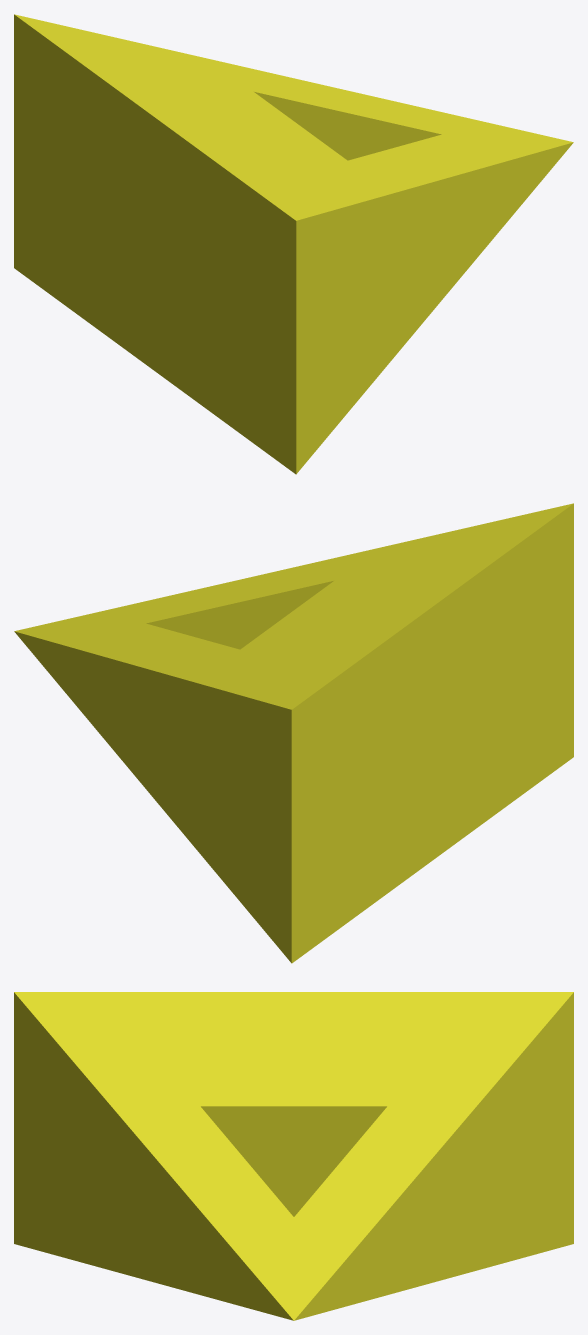
The model's file is playerHull.glb.
3 views of the same model, one above another, from view 1: azimuth 30°, elevation 25°; view 2: azimuth 150°, elevation 25°; view 3: azimuth 270°, elevation 25° (orthographic).
Visible parts, largest first — view 1: ConeNew; view 2: ConeNew; view 3: ConeNew.
Boxes of the visible parts, x1,y1,x2,y2 form: ConeNew: [14, 14, 573, 474]; ConeNew: [14, 503, 573, 963]; ConeNew: [14, 992, 573, 1320].
Size of the model in its own units: 2 by 1.16 by 2.33.
